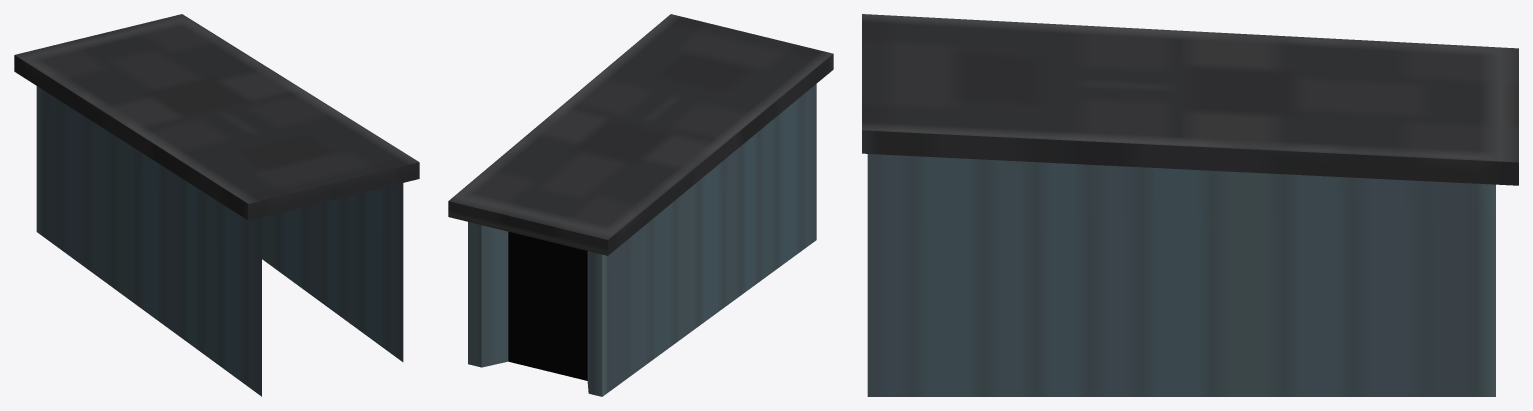
File: roof_window_v5a001.fbx
3 views of the same model, side by side, from view 1: azimuth 30°, elevation 25°; view 2: azimuth 150°, elevation 25°; view 3: azimuth 270°, elevation 25° (orthographic). The views are drawn at different scales.
Visible parts, largest first — view 1: roof_window_v5a001; view 2: roof_window_v5a001; view 3: roof_window_v5a001.
Boxes of the visible parts, left/top/right/bottom form: roof_window_v5a001: left=14, top=14, right=419, bottom=396; roof_window_v5a001: left=448, top=14, right=833, bottom=396; roof_window_v5a001: left=862, top=14, right=1518, bottom=396.
Bounding box in the file's own units: 148 × 164 × 354.
